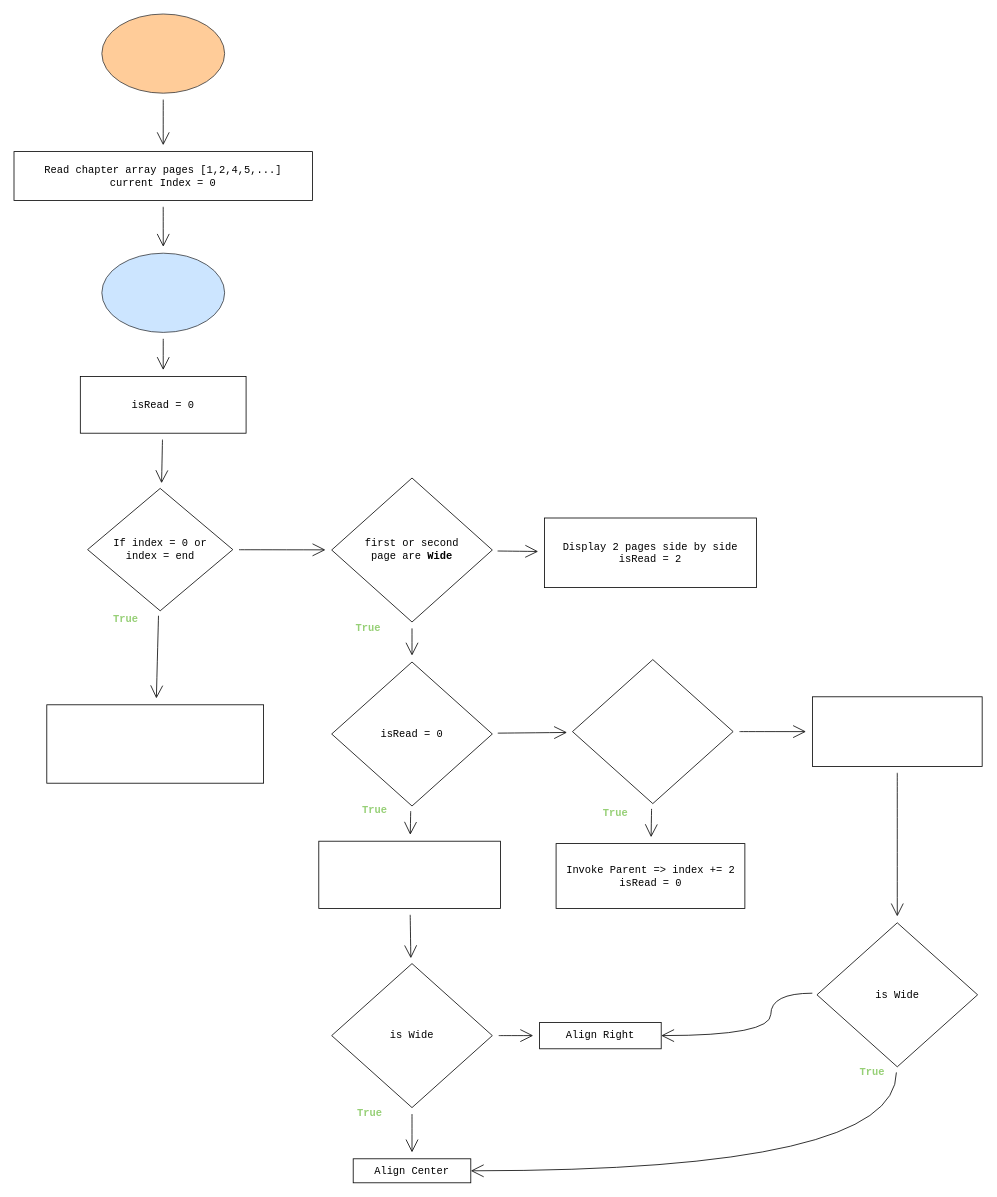
Some shapes in this 997 by 1197 pixel diagram are drawn without their labels. The centre of each missing label's shape, as x and y in pixels:
"Display image on the second page isRead = 2" goes at (x=155, y=743).
"Hide first page isRead = 2" goes at (x=897, y=731).
"Hide second page isRead = 1" goes at (x=409, y=874).
"isRead = 2" goes at (x=652, y=731).
"Reader Component" goes at (x=163, y=292).
"Viewer App" goes at (x=163, y=53).
